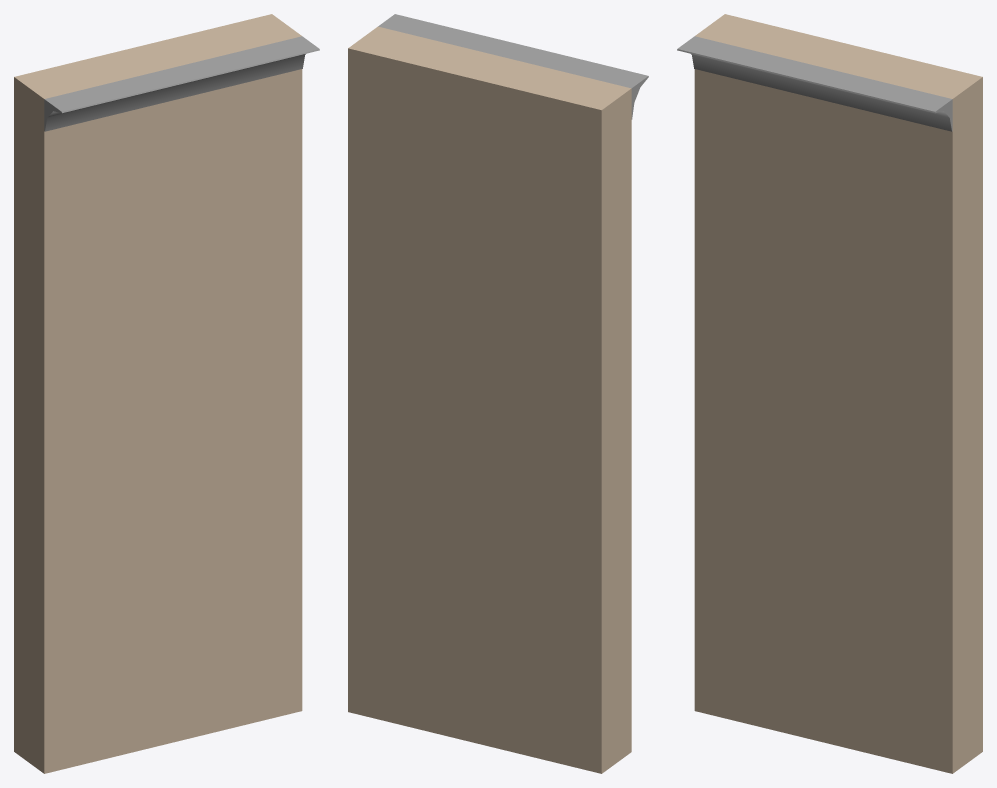
Rendered from room_wall_ceiling_border_compined_01.fbx.
The picture shows the model from 3 angles, left to right: view 1: azimuth 30°, elevation 25°; view 2: azimuth 150°, elevation 25°; view 3: azimuth 330°, elevation 25°; orthographic projection.
Parts seen in each view (by area): view 1: pPlane514; view 2: pPlane514; view 3: pPlane514.
Part boxes in pixels (box(x1,y1,x2,y2)): pPlane514: box(14, 14, 319, 773); pPlane514: box(348, 14, 648, 773); pPlane514: box(677, 14, 982, 773).
Size of the model in its own units: 100 by 250 by 32.18.
